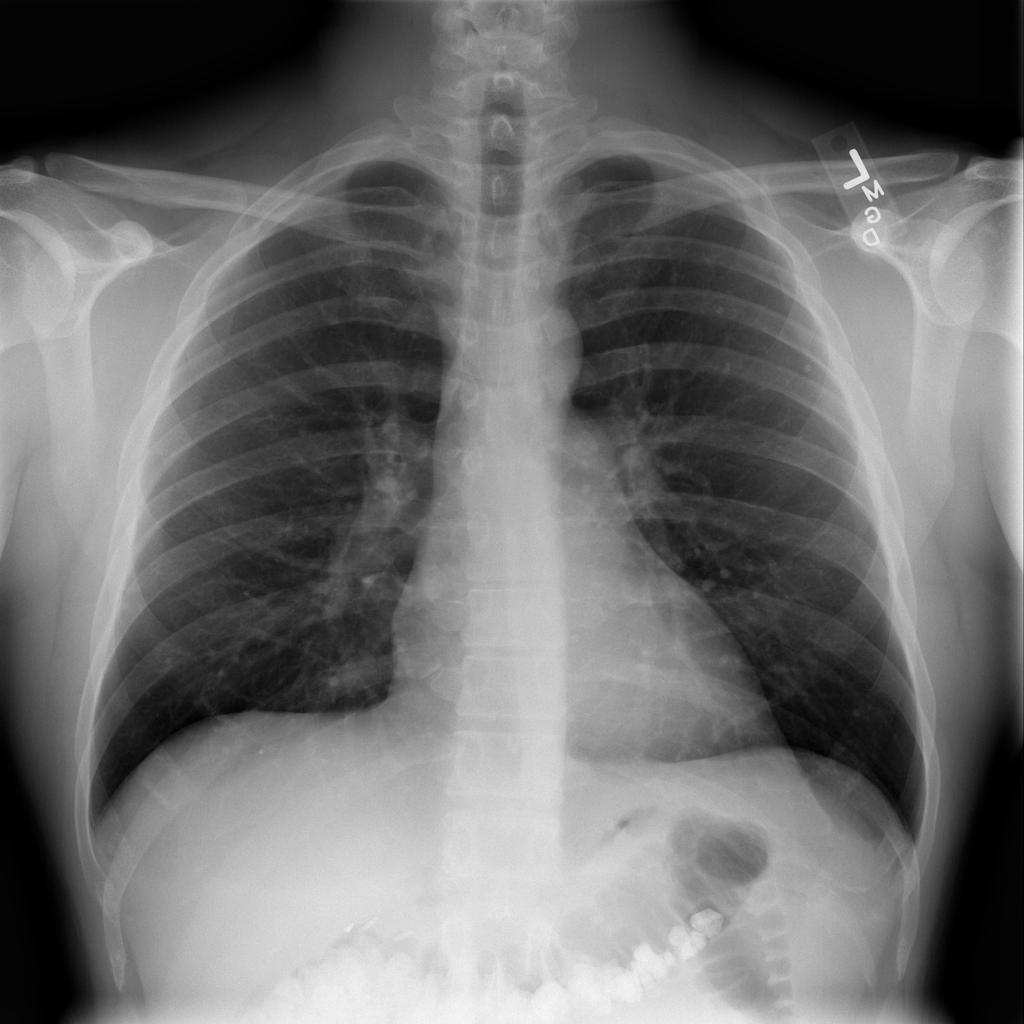nodule: (777, 339, 827, 388)
